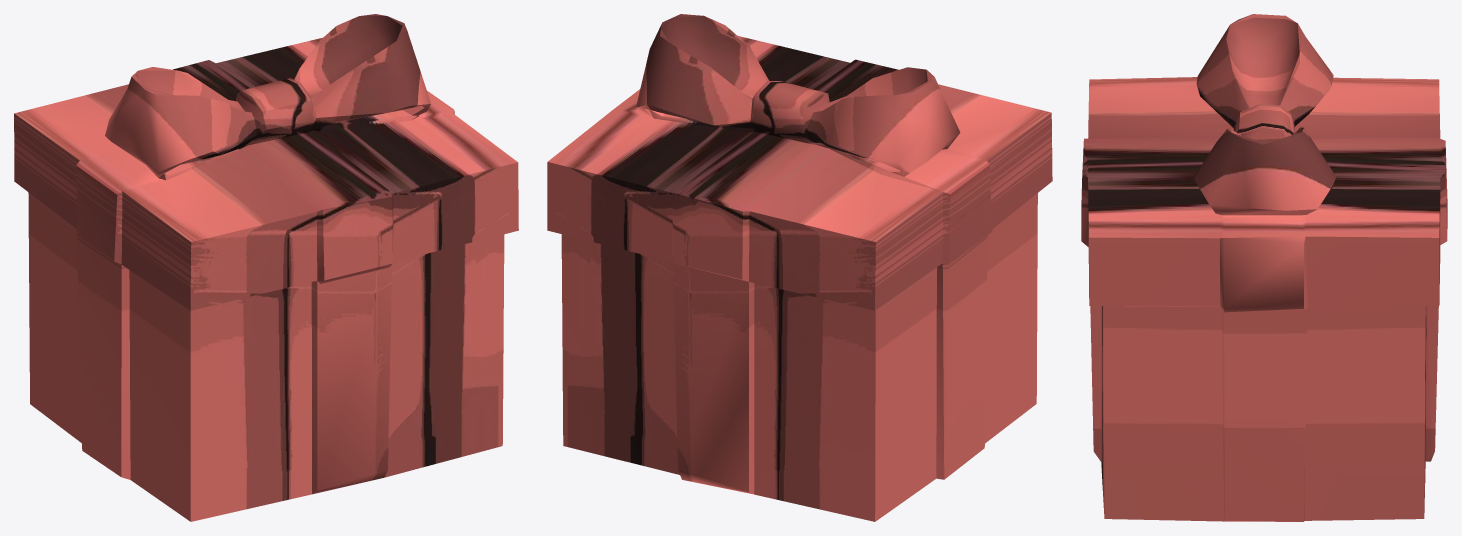
3 views of the same model, side by side, from view 1: azimuth 30°, elevation 25°; view 2: azimuth 150°, elevation 25°; view 3: azimuth 270°, elevation 25° (orthographic).
Visible parts, largest first — view 1: Decor_gift_box_display_b; view 2: Decor_gift_box_display_b; view 3: Decor_gift_box_display_b.
Boxes of the visible parts, x1,y1,x2,y2 form: Decor_gift_box_display_b: (14, 14, 518, 521); Decor_gift_box_display_b: (547, 14, 1052, 521); Decor_gift_box_display_b: (1081, 14, 1447, 521).
Size of the model in its own units: 1.15 by 1.2 by 1.07.
Materials: 1 (1 with a texture image).
